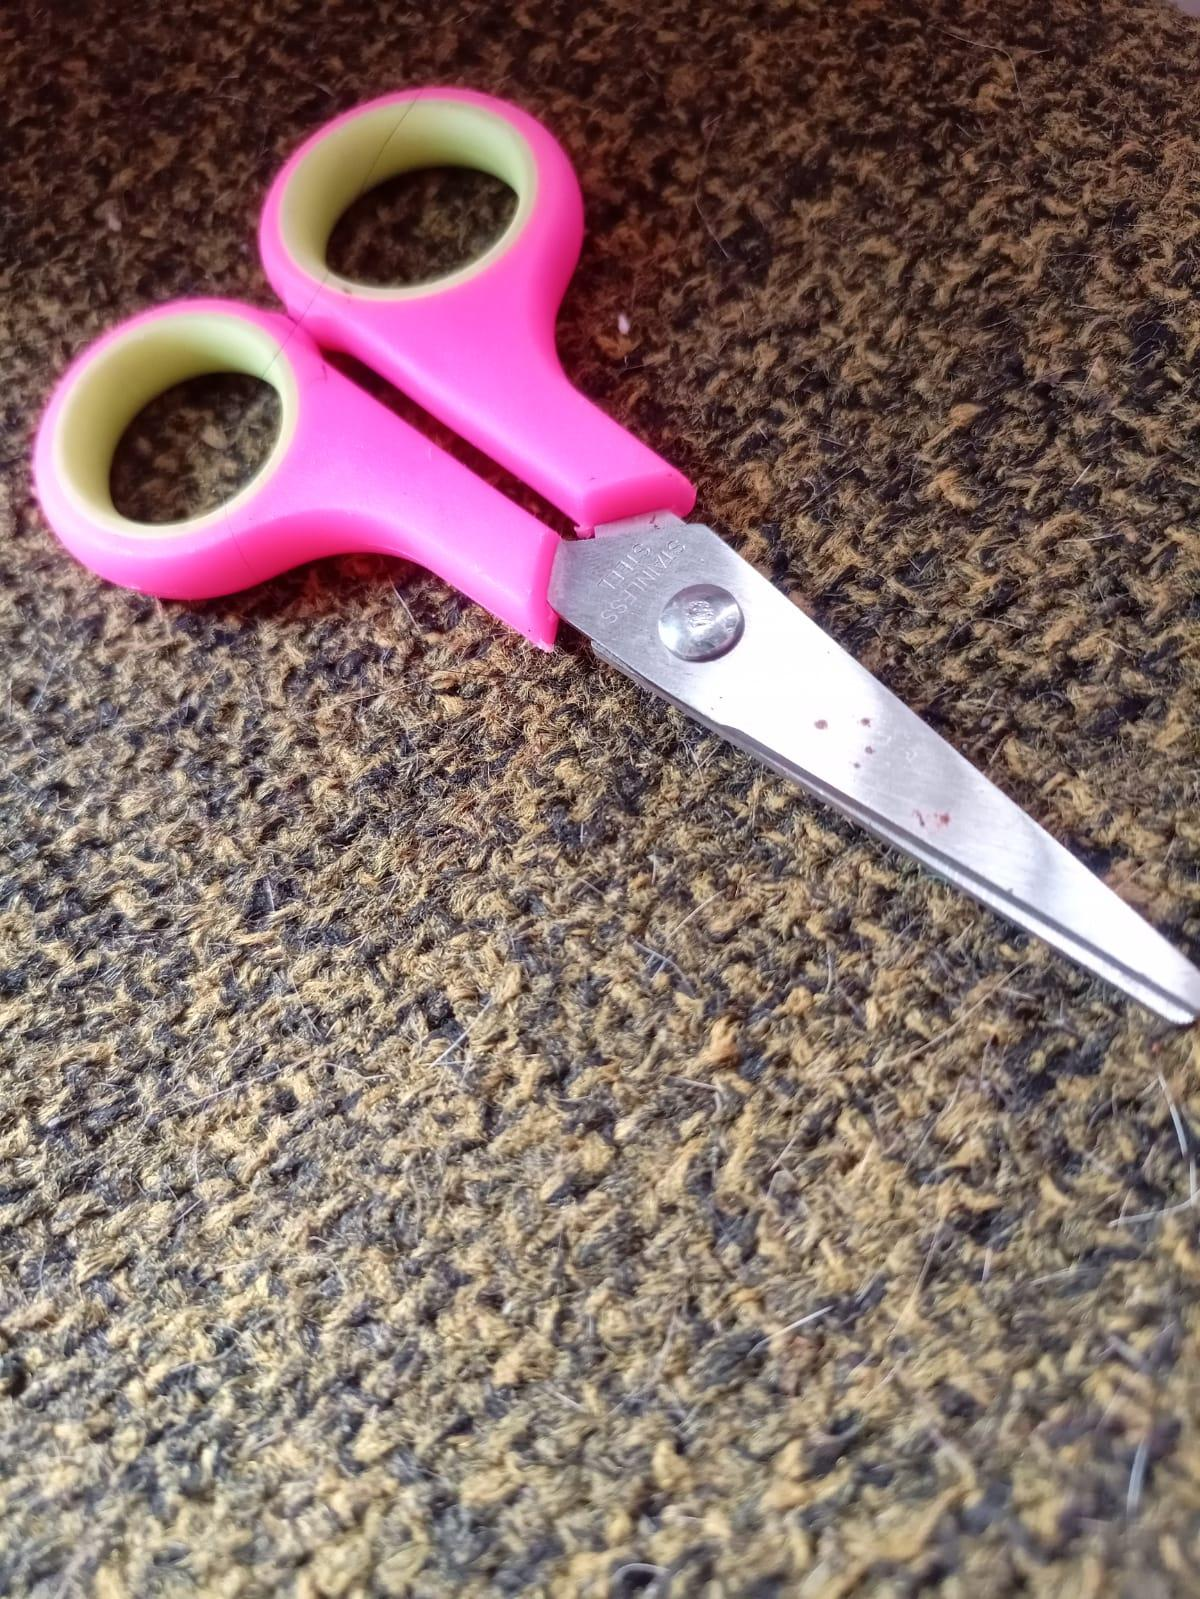scissors: (30, 88, 1199, 1037)
